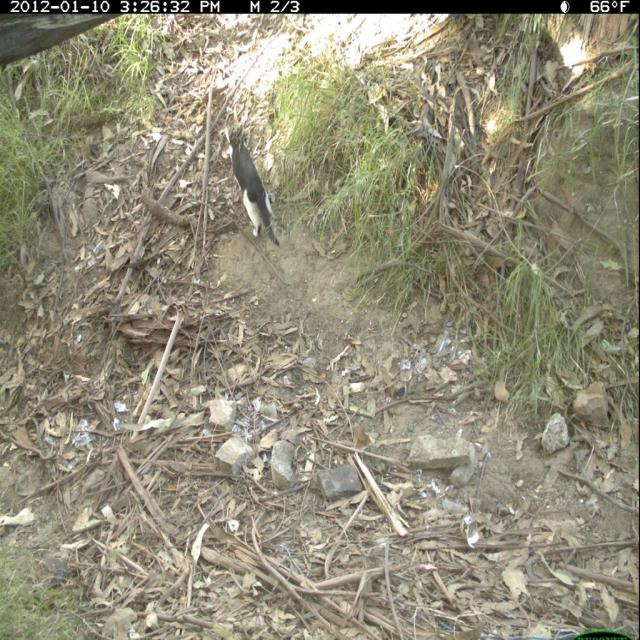cat: (223, 120, 285, 253)
